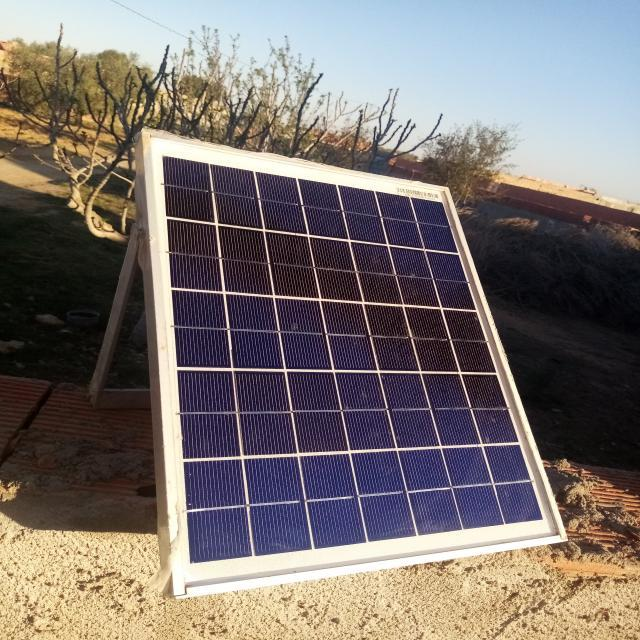no faulty: (139, 132, 568, 591)
